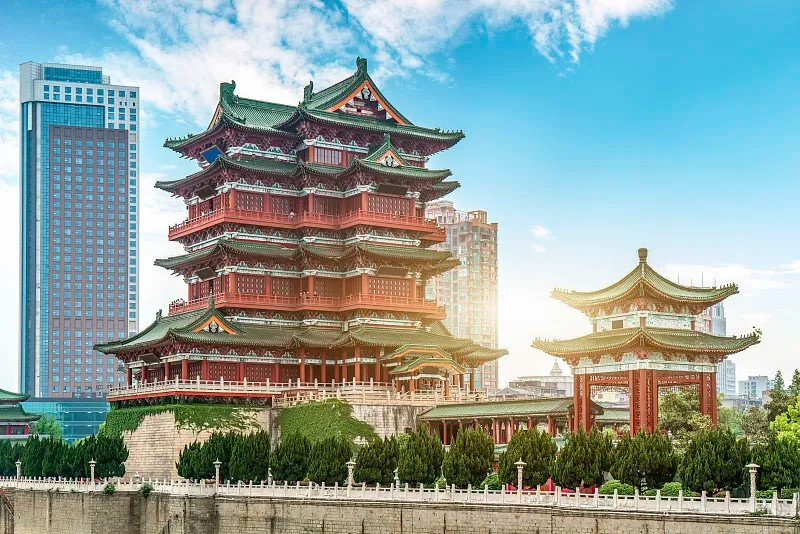Teng: (94, 56, 509, 393)
